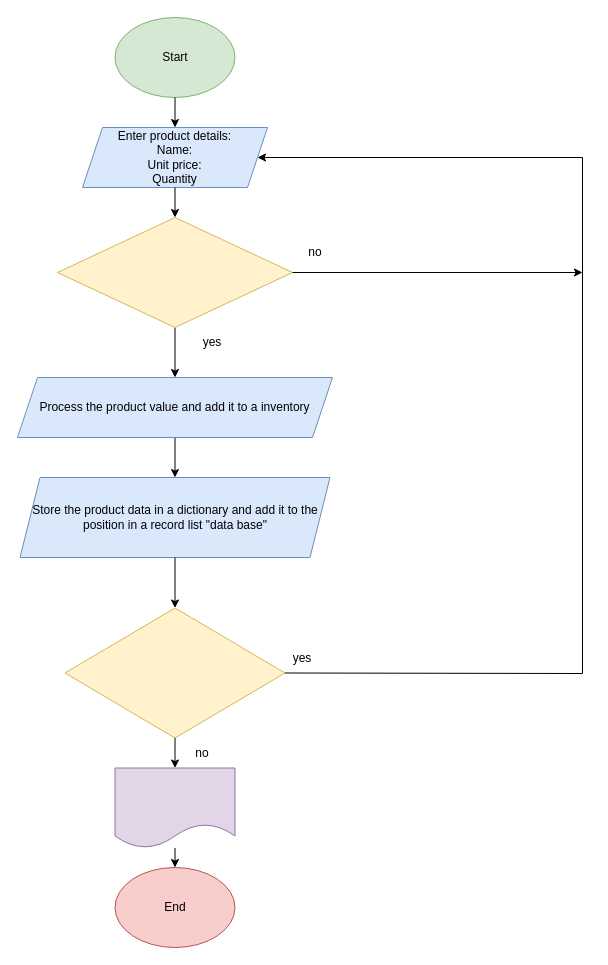
Image size: 608x965. Some labels were removed from this diagram. Here are the shapes that lost their labels. From the top down, the box of each, then its label:
(56, 216, 292, 328): validate that the data has the correct format (int, float, str)
(64, 607, 285, 738): Do you wish to continue with the records?
(114, 767, 235, 848): Show the inventory and its value
